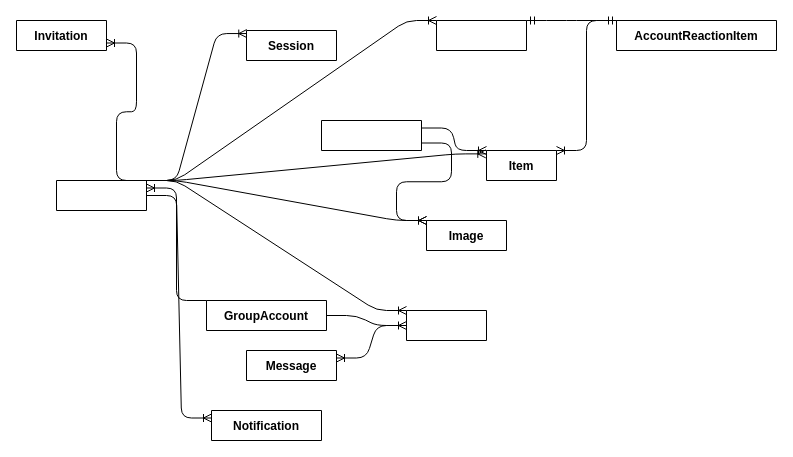
Some shapes in this 793 by 457 pixel diagram are drawn without their labels. Each missing label, with the centre of its shape:
Account: [101,195]
Group: [446,325]
ItemImage: [371,135]
Reaction: [481,35]
